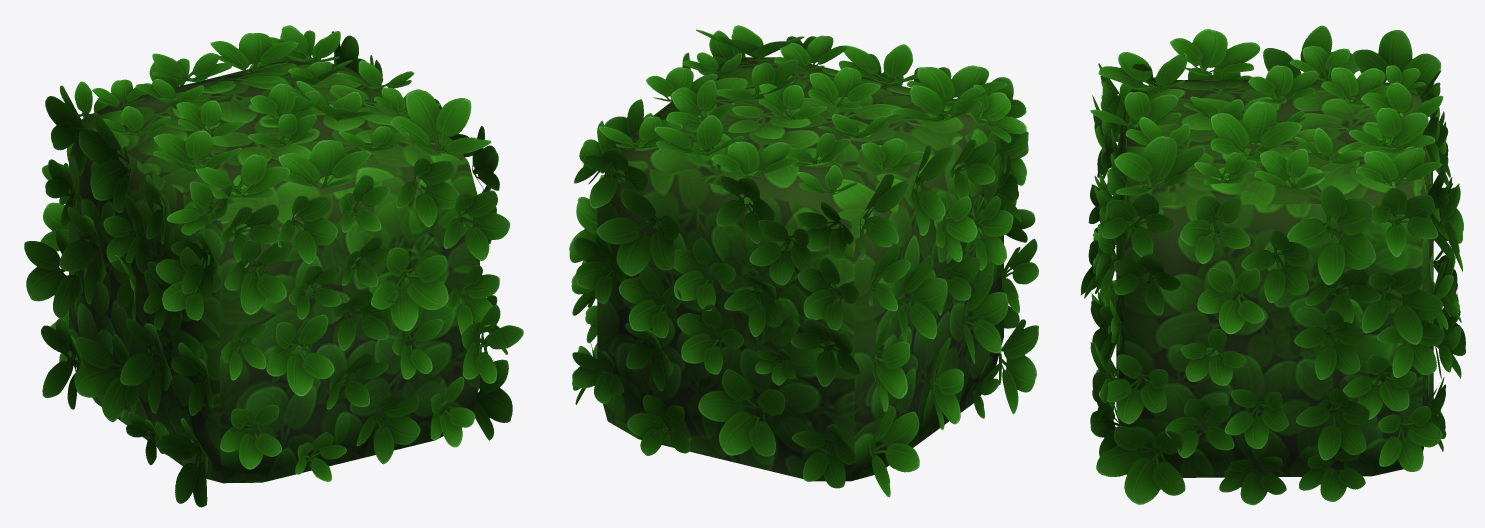
The model's file is SE_Hedge_03.fbx.
The picture shows the model from 3 angles, left to right: view 1: azimuth 30°, elevation 25°; view 2: azimuth 150°, elevation 25°; view 3: azimuth 270°, elevation 25°; orthographic projection.
Parts seen in each view (by area): view 1: SE_Hedge_03; view 2: SE_Hedge_03; view 3: SE_Hedge_03.
Boxes of the visible parts, x1,y1,x2,y2 form: SE_Hedge_03: (24, 25, 523, 507); SE_Hedge_03: (569, 25, 1038, 497); SE_Hedge_03: (1080, 25, 1465, 505).
Bounding box in the file's own units: 2.71 × 2.65 × 2.65.
